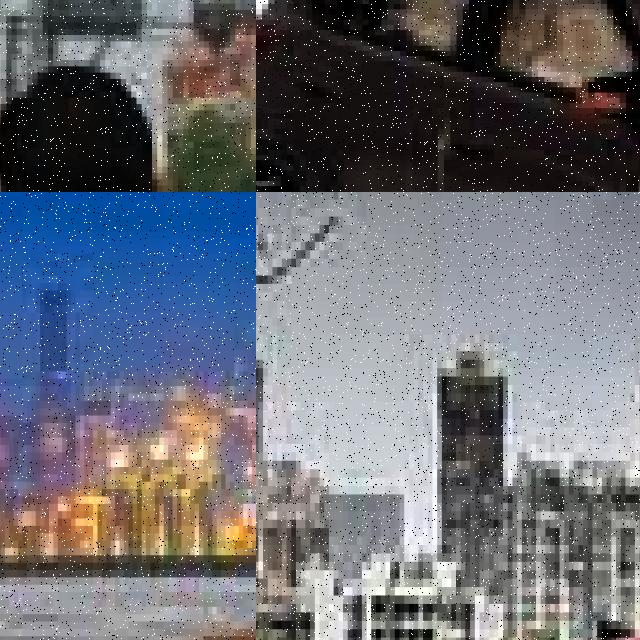bike: (111, 467, 256, 640)
car: (256, 0, 640, 192), (291, 587, 640, 640)
